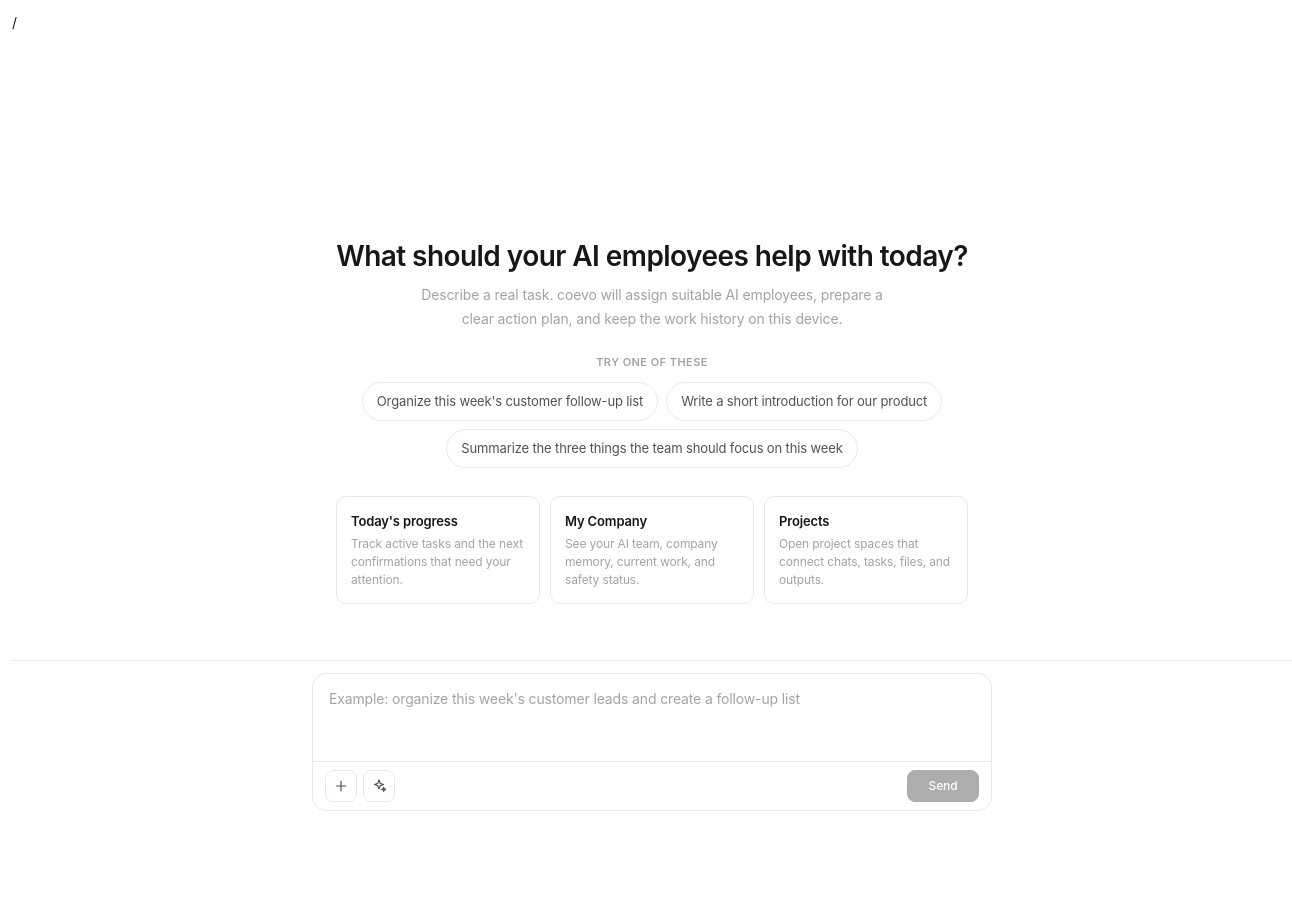
Test: MissionChat slash commands › shows the slash menu and executes help without creating a task
This screenshot has width=1292, height=912.
Replace the text in the text box with "/he" at (652, 714), box [313,674,991,754]
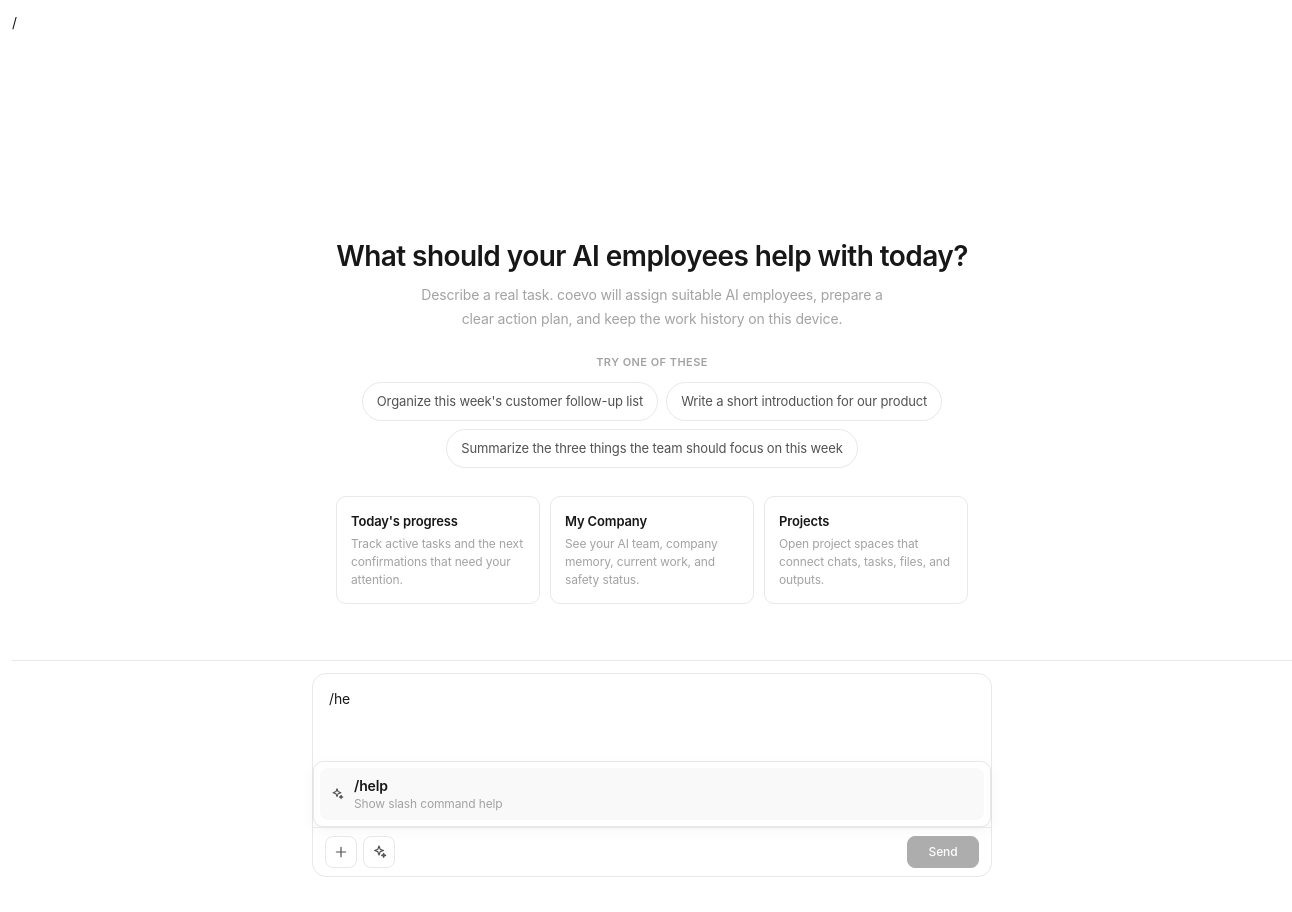
expect the list named "Slash commands" is shown: met, box [313,761,991,827]
Press Enter in the text box, box [313,674,991,754]
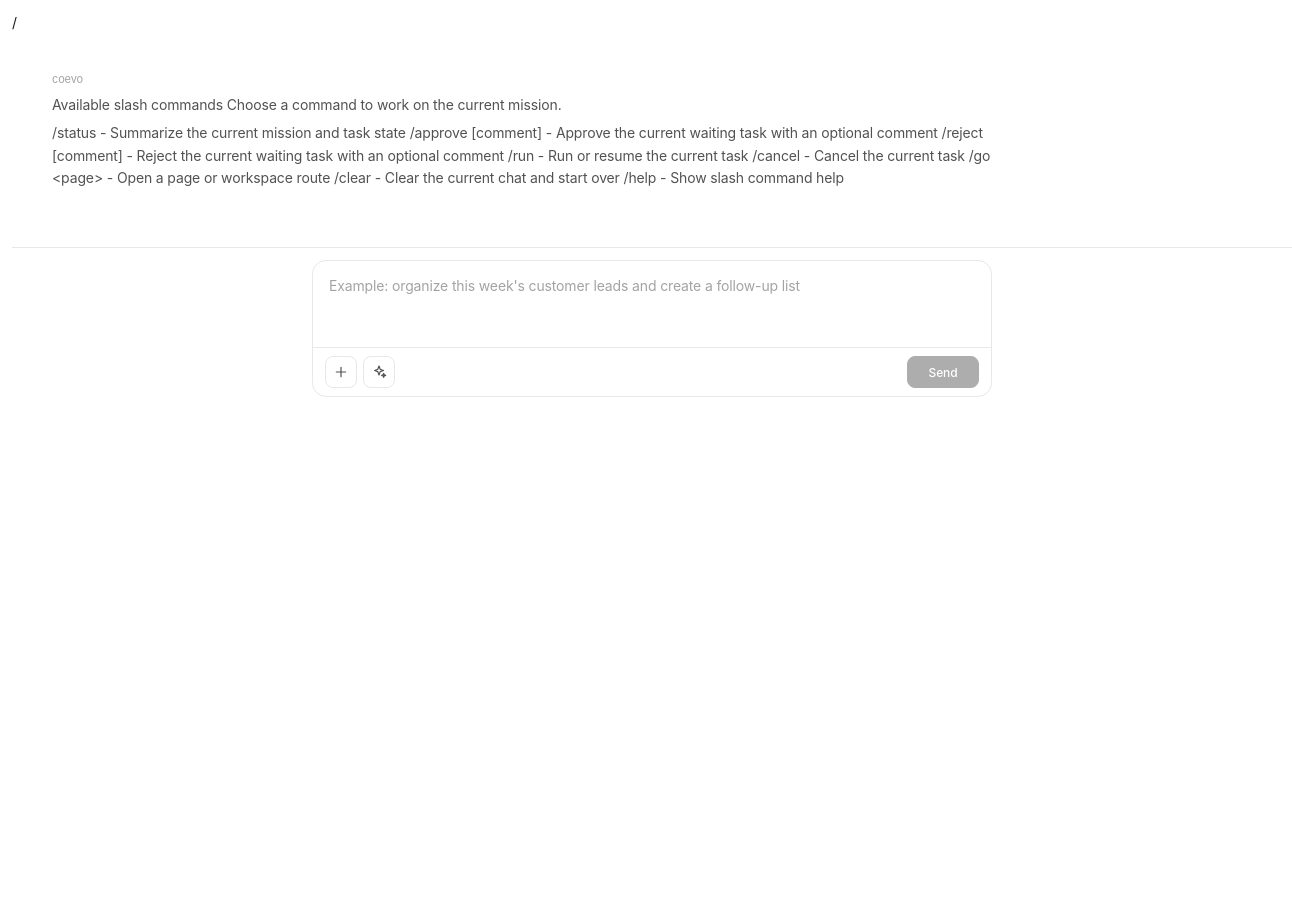
expect the text "Available slash commands" is shown: met, box [52,96,562,113]
